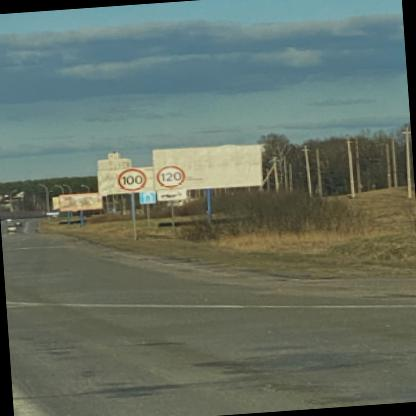speedlimit: (152, 162, 184, 188), (113, 166, 145, 190)
